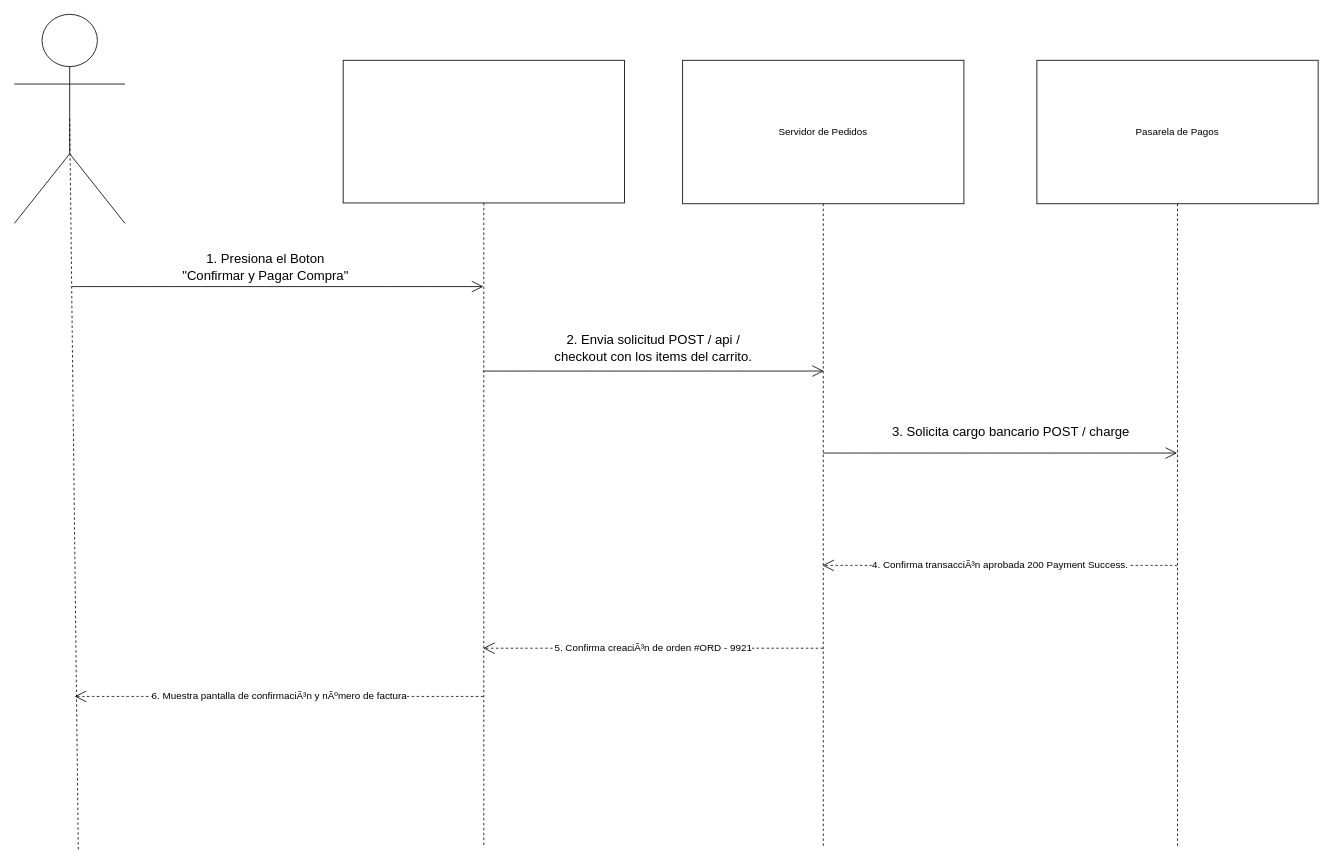
The diagram is 1333 pixels wide and 865 high, and some of its shapes have lost their labels. Here are the shapes that lost their labels. From the top down, the box of each, then its label:
(14, 14, 125, 223): Cliente
(342, 59, 624, 846): Carrito Web
